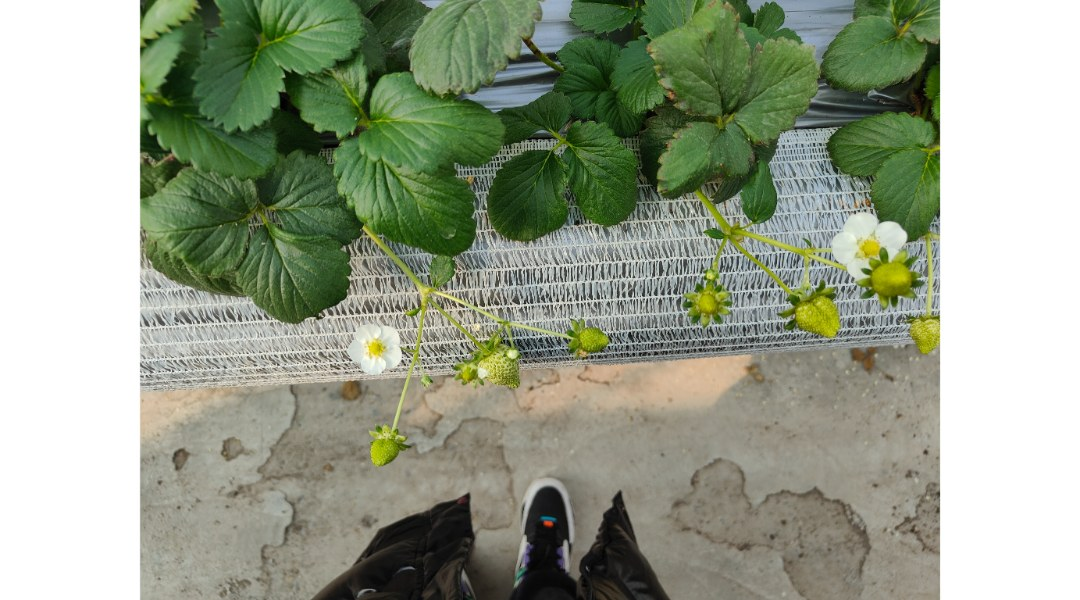berry: (680, 271, 734, 342), (780, 281, 842, 342), (367, 420, 423, 476), (862, 246, 915, 303), (464, 341, 522, 392), (556, 319, 613, 359), (910, 317, 948, 353)
flower: (828, 202, 902, 280), (344, 316, 407, 376)
strain: (448, 297, 575, 336), (392, 309, 429, 427), (363, 233, 422, 286), (731, 244, 788, 297), (431, 302, 480, 349), (689, 194, 728, 231), (751, 229, 801, 255), (798, 261, 814, 294)
